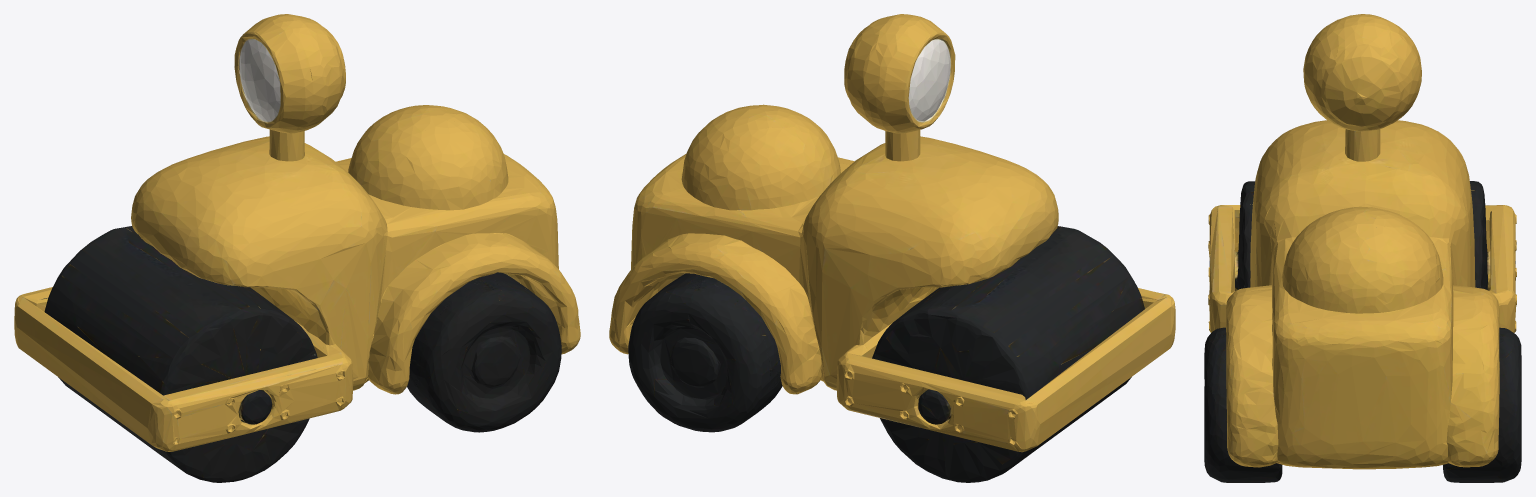
File: rollerbot_v1.glb
3 renders of one model, left to right at view 1: azimuth 30°, elevation 25°; view 2: azimuth 150°, elevation 25°; view 3: azimuth 270°, elevation 25°, orthographic.
Parts seen in each view (by area): view 1: body_mesh, eye_mesh; view 2: body_mesh, eye_mesh; view 3: body_mesh, eye_mesh.
Boxes of the visible parts, x1,y1,x2,y2 form: body_mesh: [14, 105, 580, 482]; eye_mesh: [234, 14, 461, 161]; body_mesh: [609, 104, 1175, 482]; eye_mesh: [727, 14, 955, 161]; body_mesh: [1204, 120, 1521, 482]; eye_mesh: [1303, 14, 1421, 236].
Bounding box in the file's own units: 0.9 × 0.7595 × 0.5578.
1 material, 1 textured.
